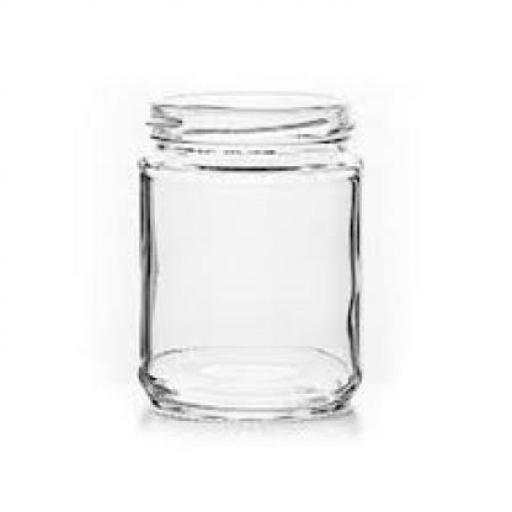glass: (138, 100, 360, 414)
